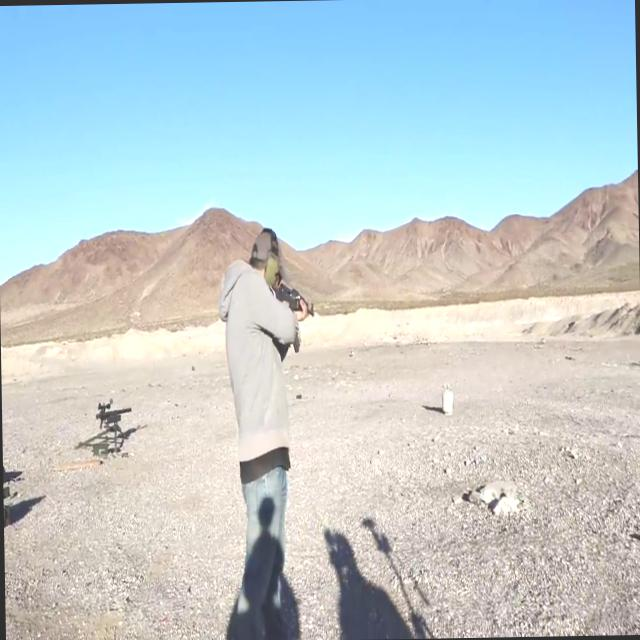long weapon: (82, 376, 144, 464), (263, 272, 320, 356)
